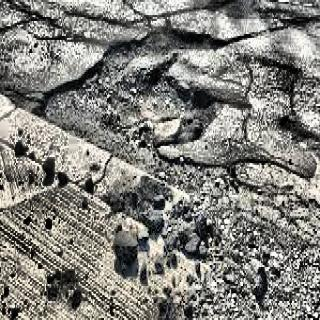pothole: (36, 15, 259, 202)
